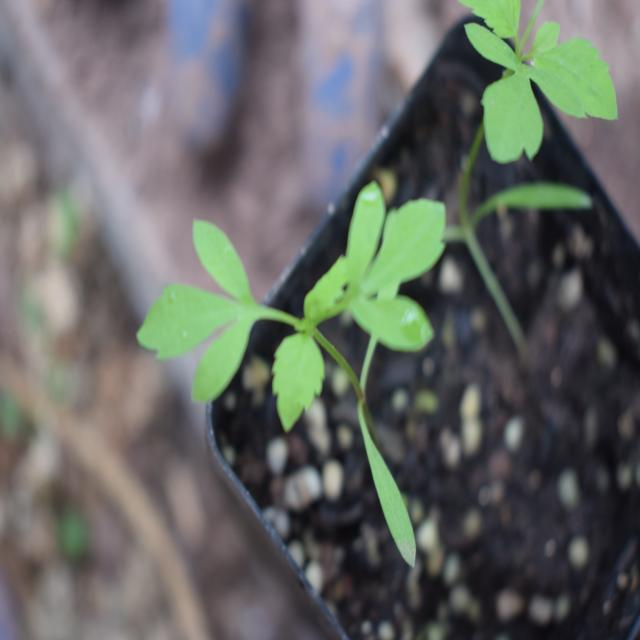Bidens pilosa: (142, 169, 450, 538)
